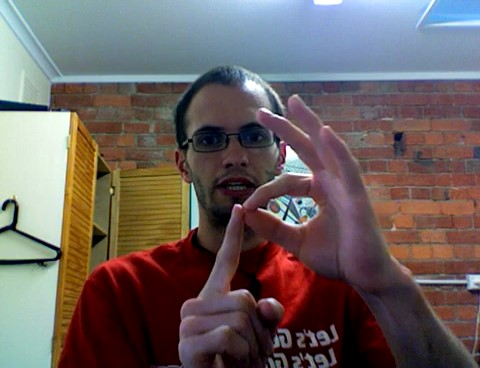P: (173, 87, 394, 368)
